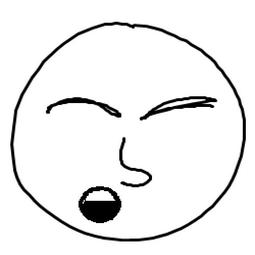closed_eye: (135, 91, 216, 122), (40, 93, 126, 119)
nose: (108, 127, 160, 190)
open_mouth: (75, 184, 124, 225)
